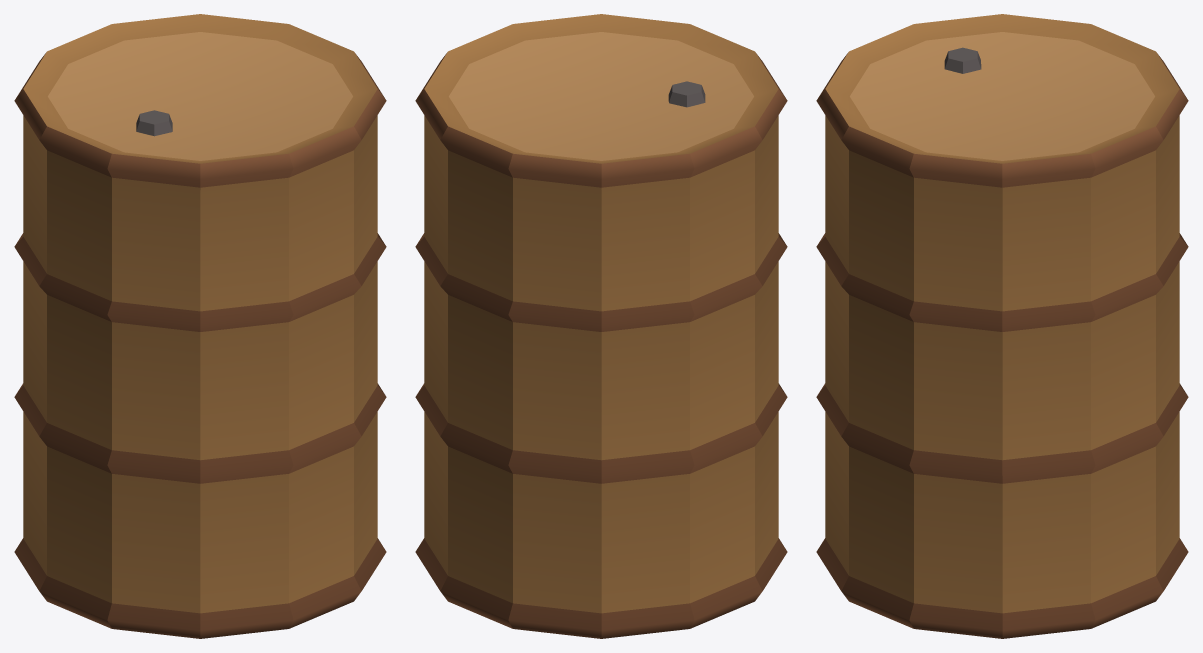
The model's file is SR_Barrel_01.fbx.
3 views of the same model, side by side, from view 1: azimuth 30°, elevation 25°; view 2: azimuth 150°, elevation 25°; view 3: azimuth 270°, elevation 25° (orthographic).
Visible parts, largest first — view 1: SR_Barrel_01; view 2: SR_Barrel_01; view 3: SR_Barrel_01.
Boxes of the visible parts, bbox=[...] form: SR_Barrel_01: bbox=[14, 14, 386, 638]; SR_Barrel_01: bbox=[415, 14, 787, 638]; SR_Barrel_01: bbox=[816, 14, 1188, 638].
Bounding box in the file's own units: 72.51 × 103 × 72.51.
